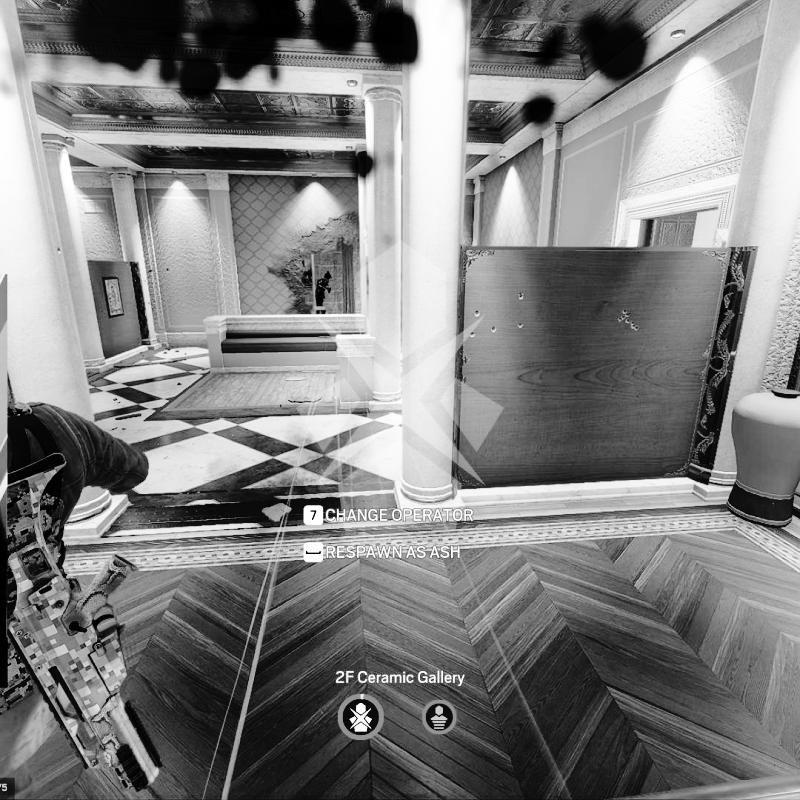Character: (4, 382, 154, 792), (316, 270, 334, 314)
Head: (324, 271, 332, 281)
